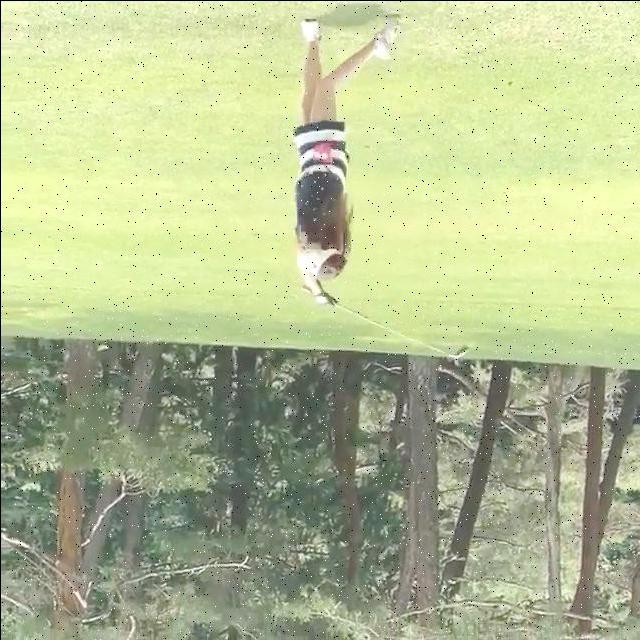golf club-handle: (298, 283, 471, 360)
golf club-head: (453, 344, 469, 357)
